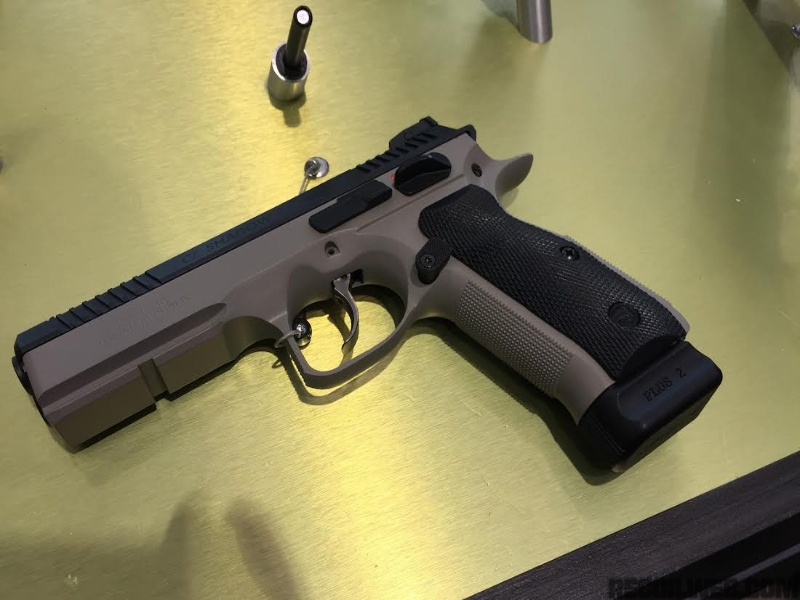gun: (10, 120, 717, 477)
